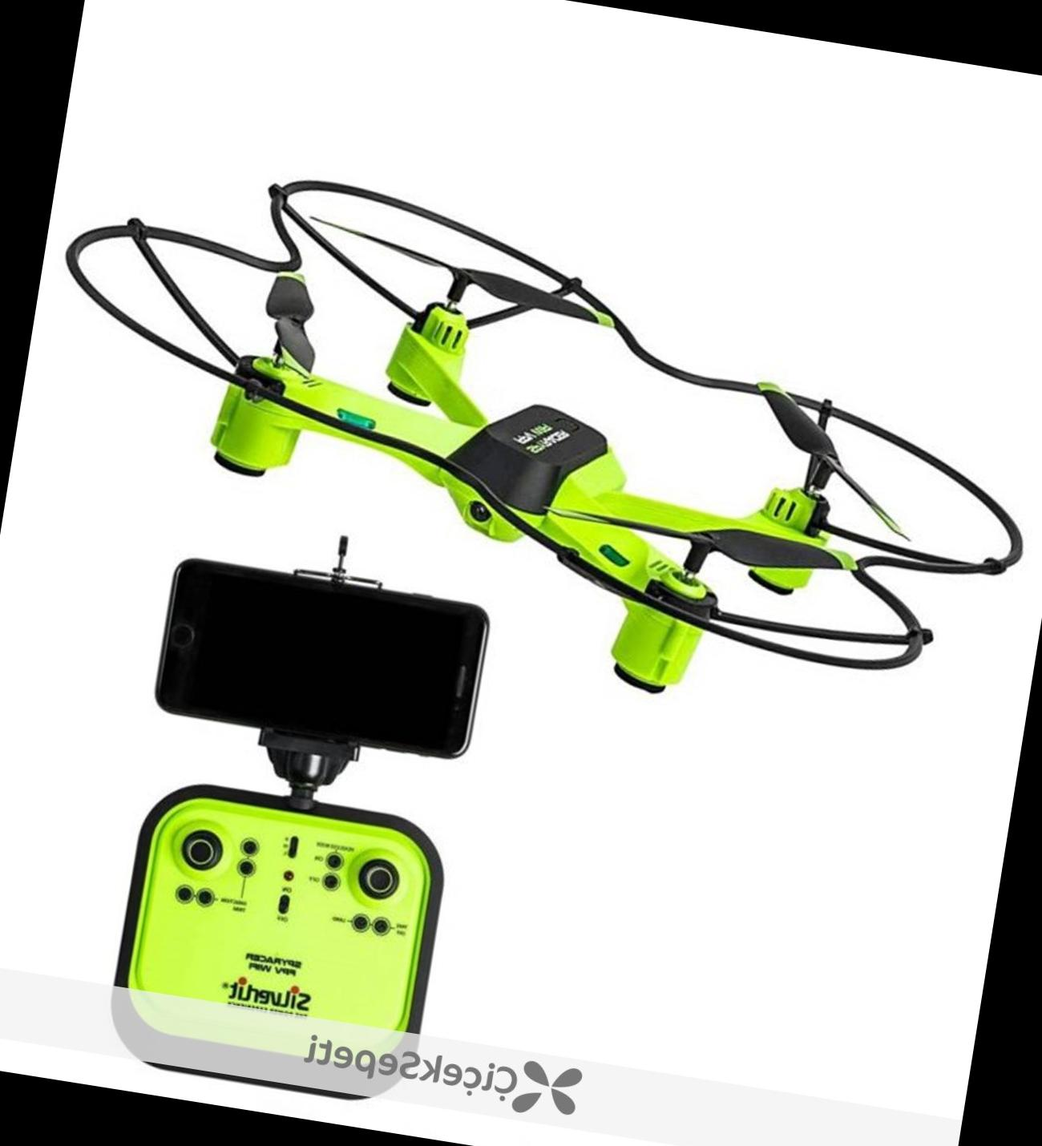drone: (4, 147, 1042, 694)
